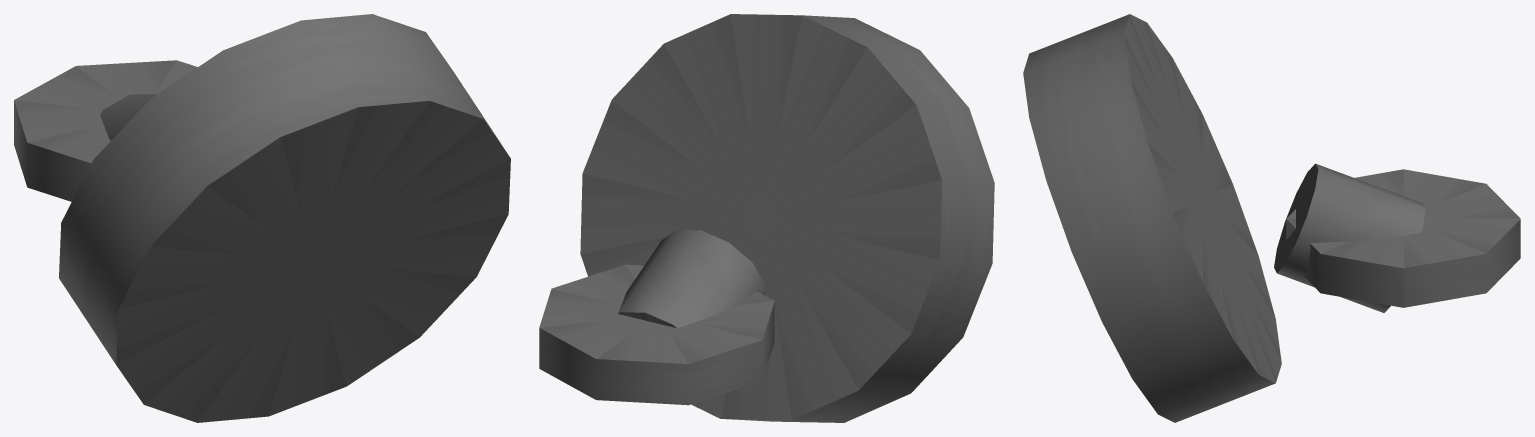
The model's file is mastarmcurve_8x2_c1_up.obj.
The picture shows the model from 3 angles, left to right: view 1: azimuth 30°, elevation 25°; view 2: azimuth 150°, elevation 25°; view 3: azimuth 270°, elevation 25°; orthographic projection. The views are drawn at different scales.
Parts seen in each view (by area): view 1: mastarm_8x2_c1_up; view 2: mastarm_8x2_c1_up; view 3: mastarm_8x2_c1_up.
Part boxes in pixels (x1,y1,x2,y2): mastarm_8x2_c1_up: [14, 14, 510, 422]; mastarm_8x2_c1_up: [539, 14, 994, 422]; mastarm_8x2_c1_up: [1023, 14, 1520, 422].
Bounding box in the file's own units: 0.6775 × 0.6962 × 0.8488.
